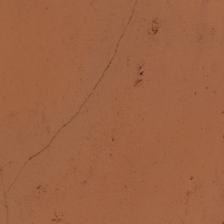Crack: (3, 3, 135, 195)
